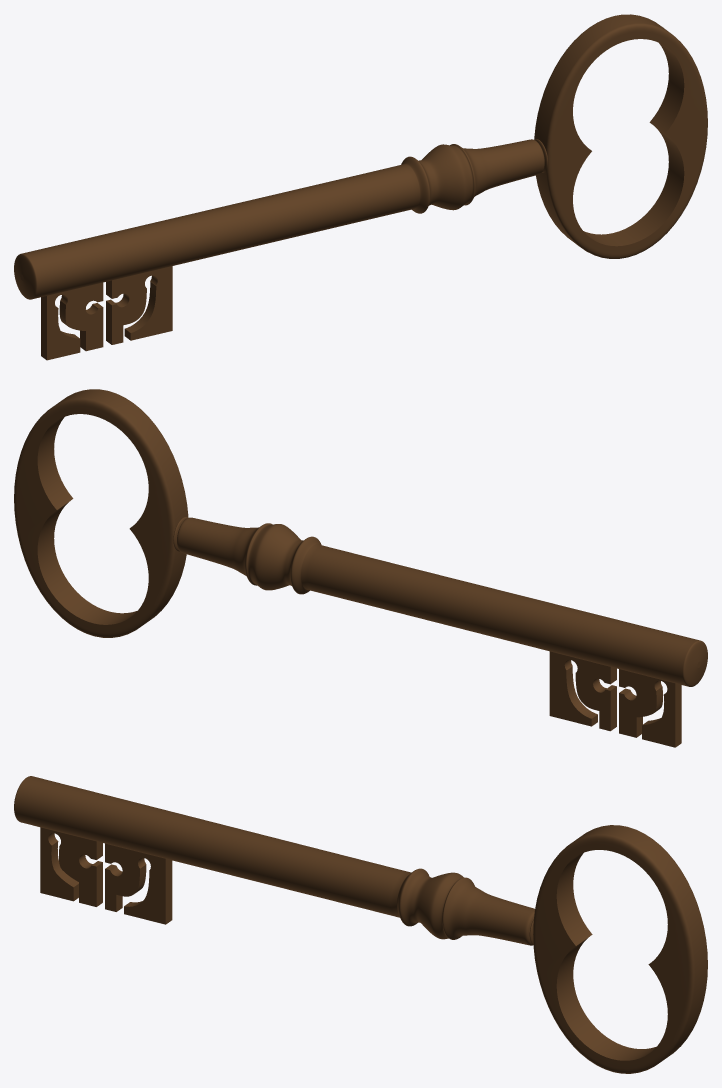
The model's file is key.glb.
3 renders of one model, top to bottom at view 1: azimuth 30°, elevation 25°; view 2: azimuth 150°, elevation 25°; view 3: azimuth 330°, elevation 25°, orthographic.
Parts seen in each view (by area): view 1: Box007_Material #30_0; view 2: Box007_Material #30_0; view 3: Box007_Material #30_0.
Part boxes in pixels (x1,y1,x2,y2): Box007_Material #30_0: (14, 14, 707, 360); Box007_Material #30_0: (14, 389, 707, 747); Box007_Material #30_0: (14, 776, 707, 1073).
Size of the model in its own units: 0.1 by 0.033 by 0.0086.
